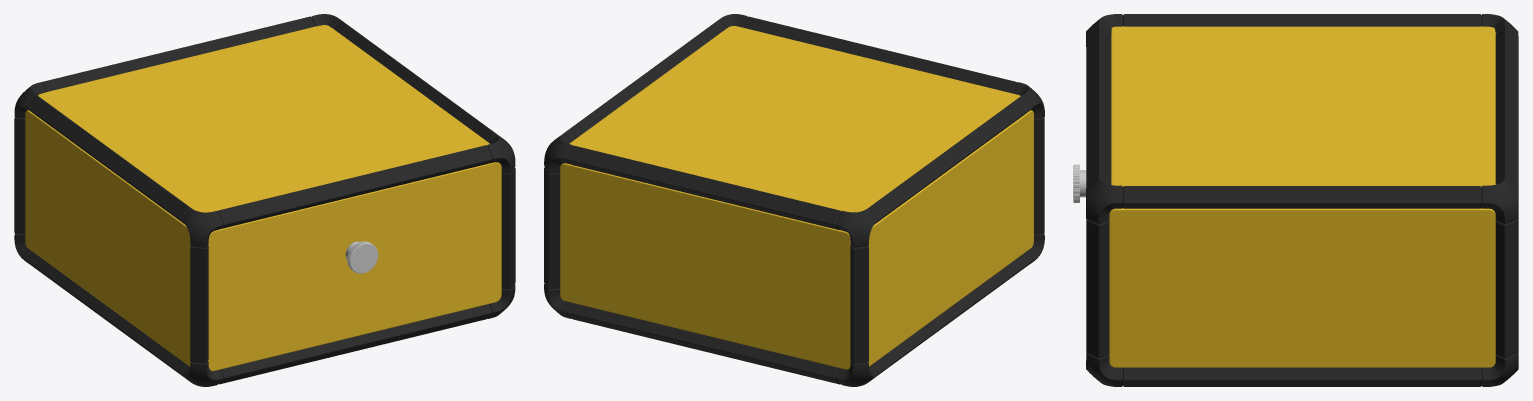
The picture shows the model from 3 angles, left to right: view 1: azimuth 30°, elevation 25°; view 2: azimuth 150°, elevation 25°; view 3: azimuth 270°, elevation 25°; orthographic projection. The views are drawn at different scales.
Parts seen in each view (by area): view 1: 374x374x154; view 2: 374x374x154; view 3: 374x374x154.
Boxes of the visible parts, x1,y1,x2,y2 form: 374x374x154: [14, 14, 515, 386]; 374x374x154: [544, 14, 1044, 386]; 374x374x154: [1073, 14, 1518, 386].
Bounding box in the file's own units: 0.4517 × 0.2316 × 0.4646.
